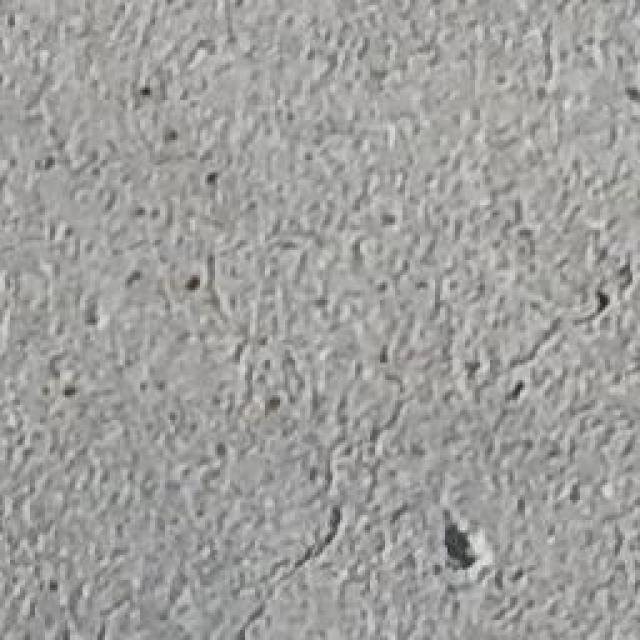concrete-crack: (237, 499, 348, 640), (429, 502, 492, 574)
